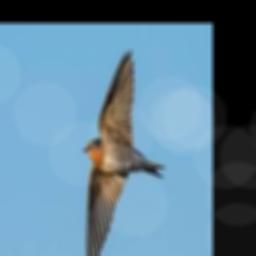Swallow: (81, 48, 164, 256)
